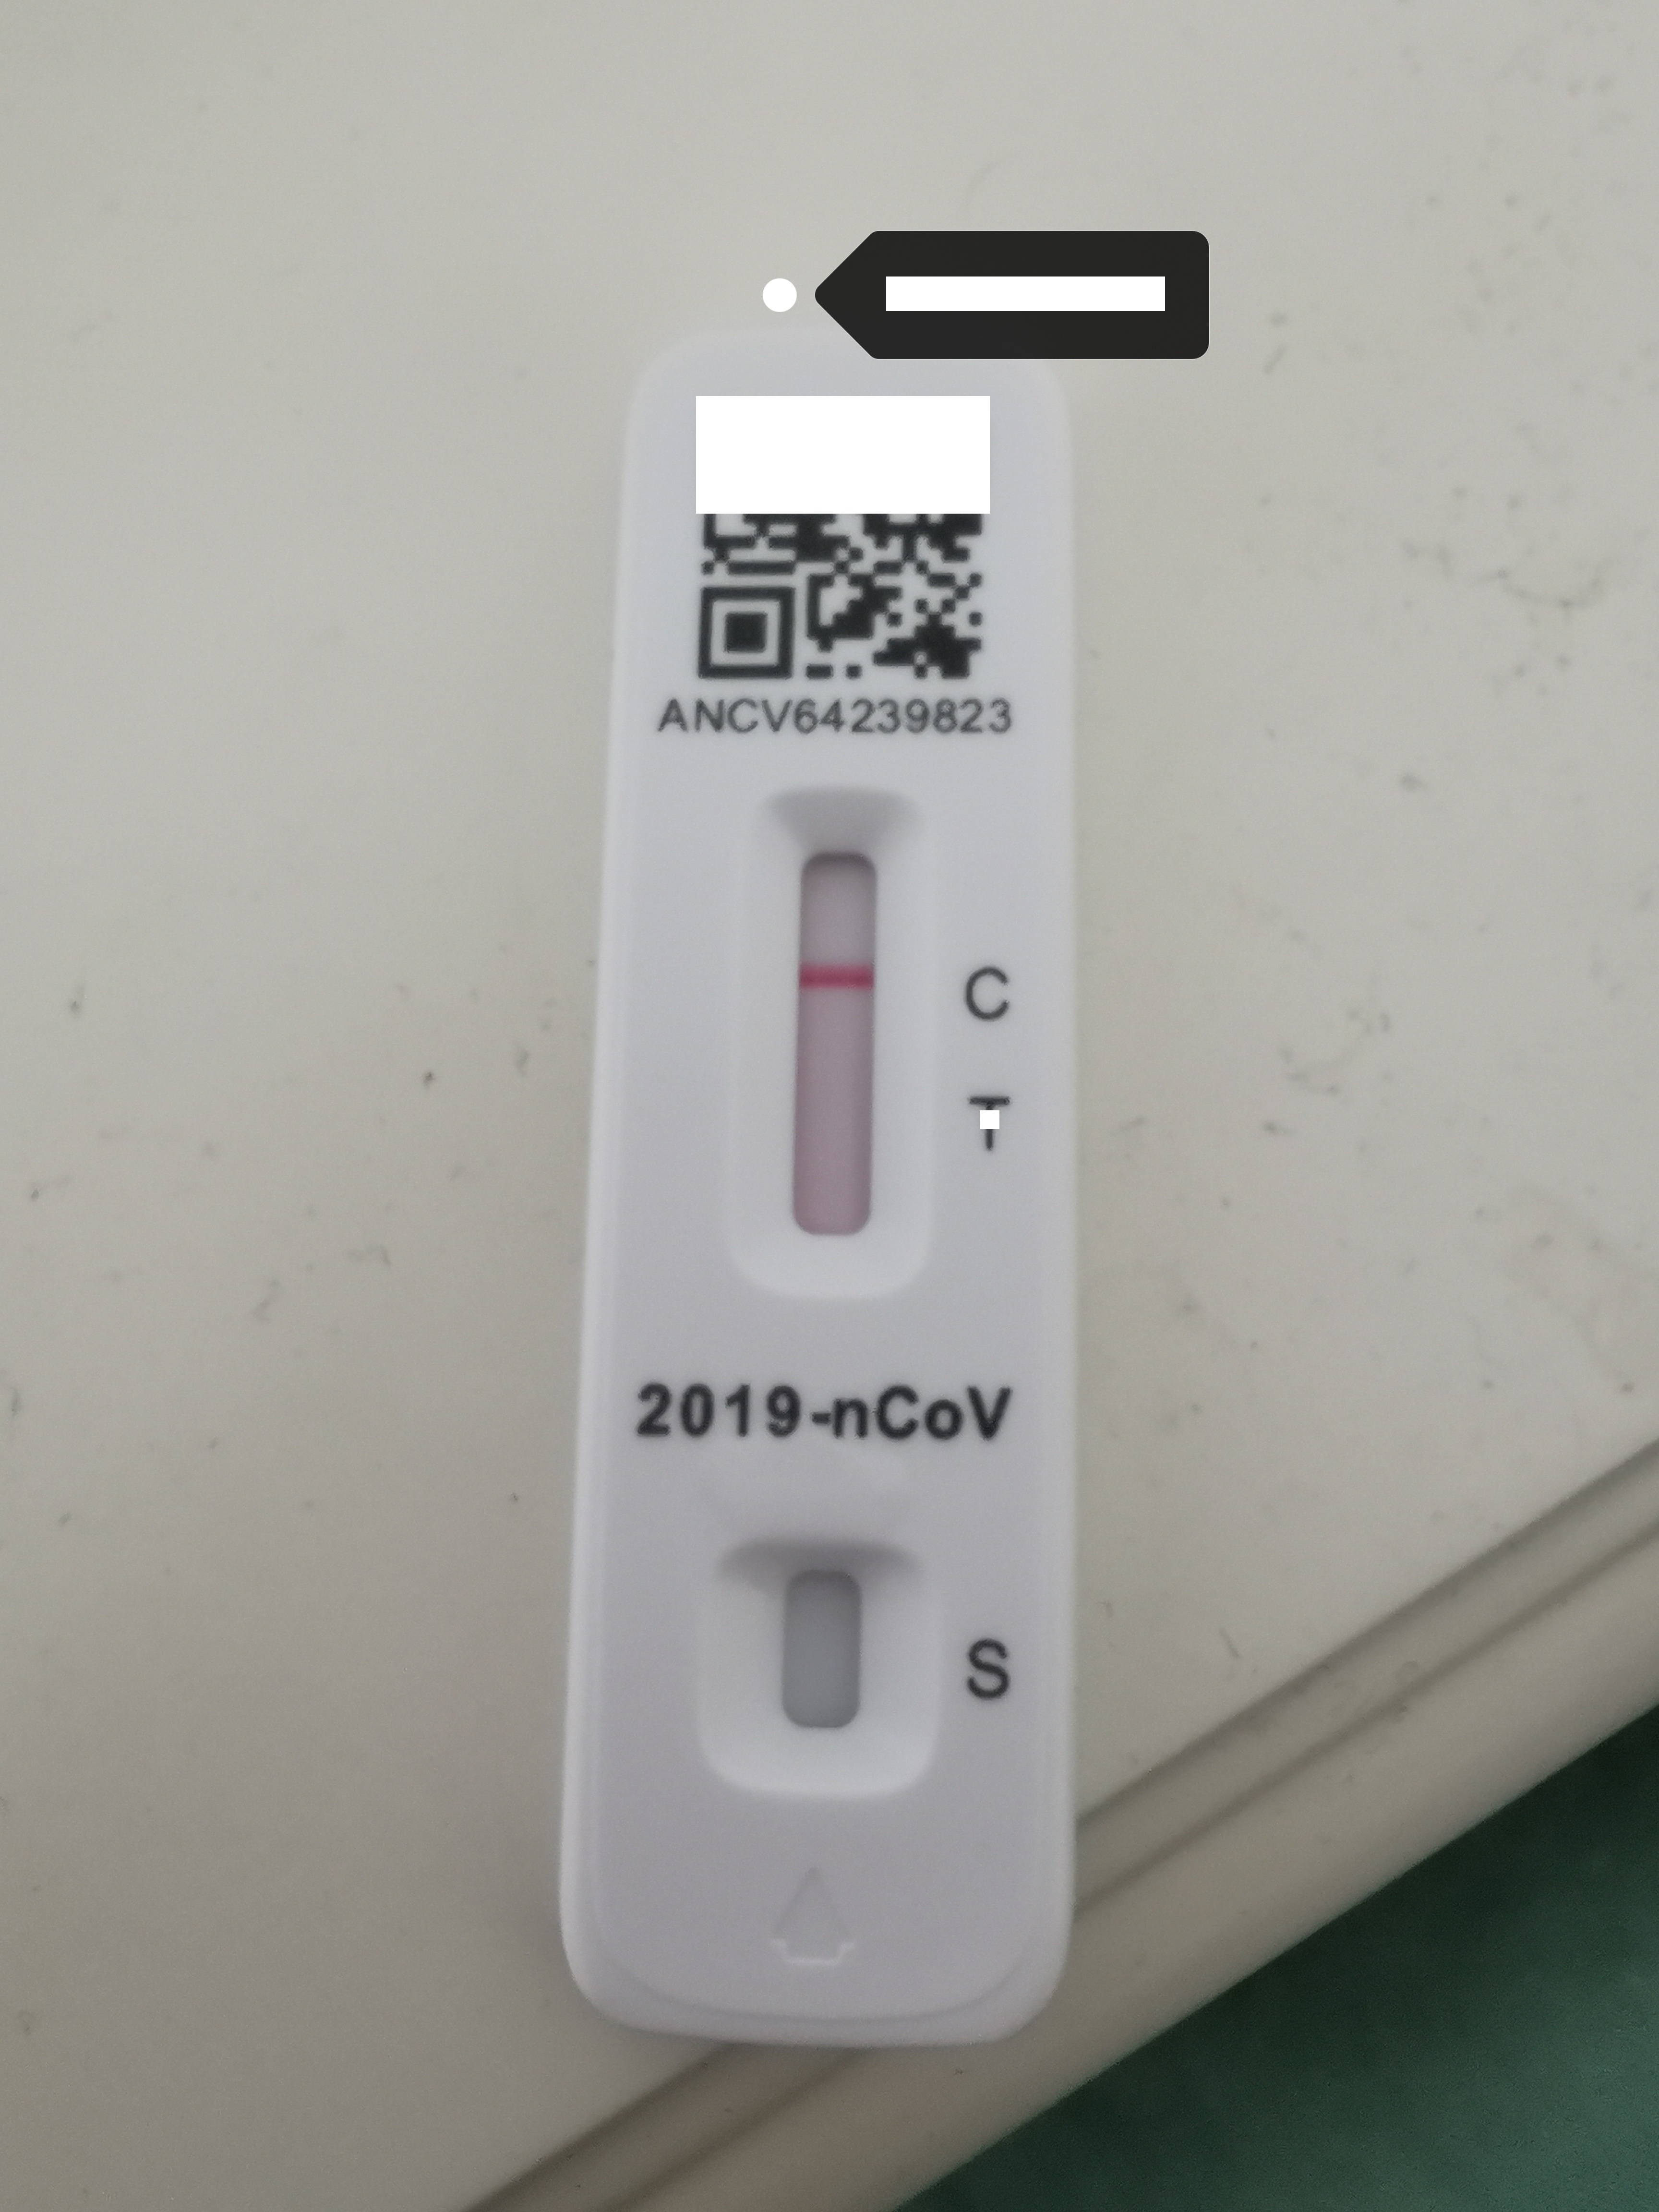negative: (767, 787, 904, 1299)
